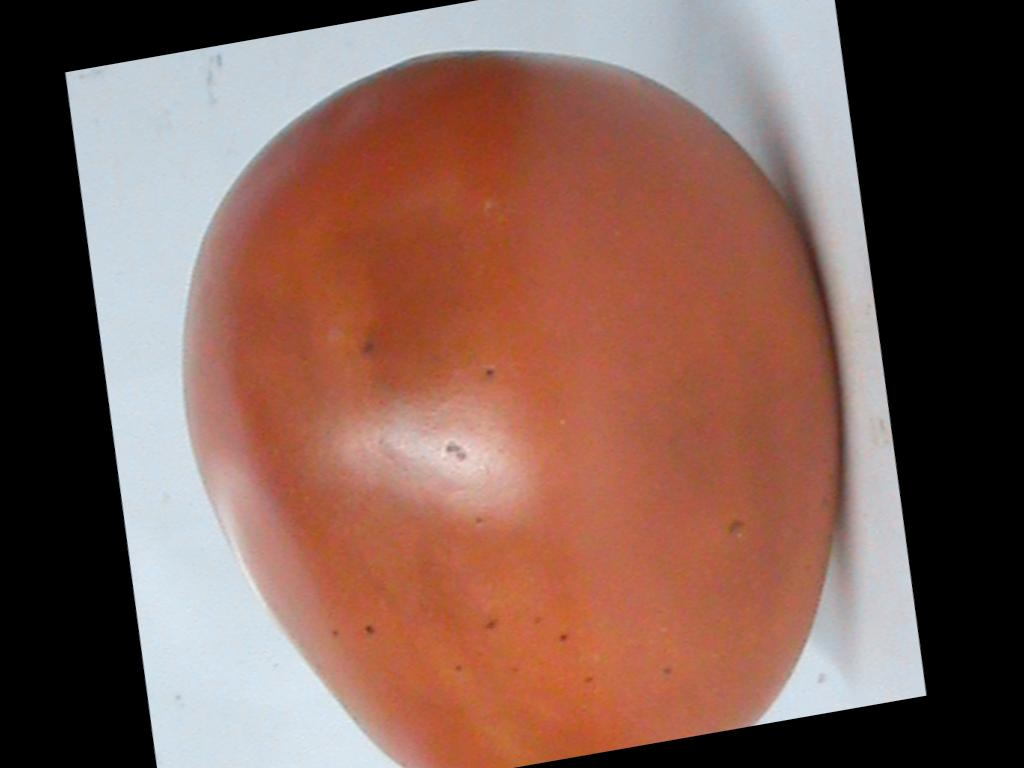tomato: (184, 52, 835, 768)
